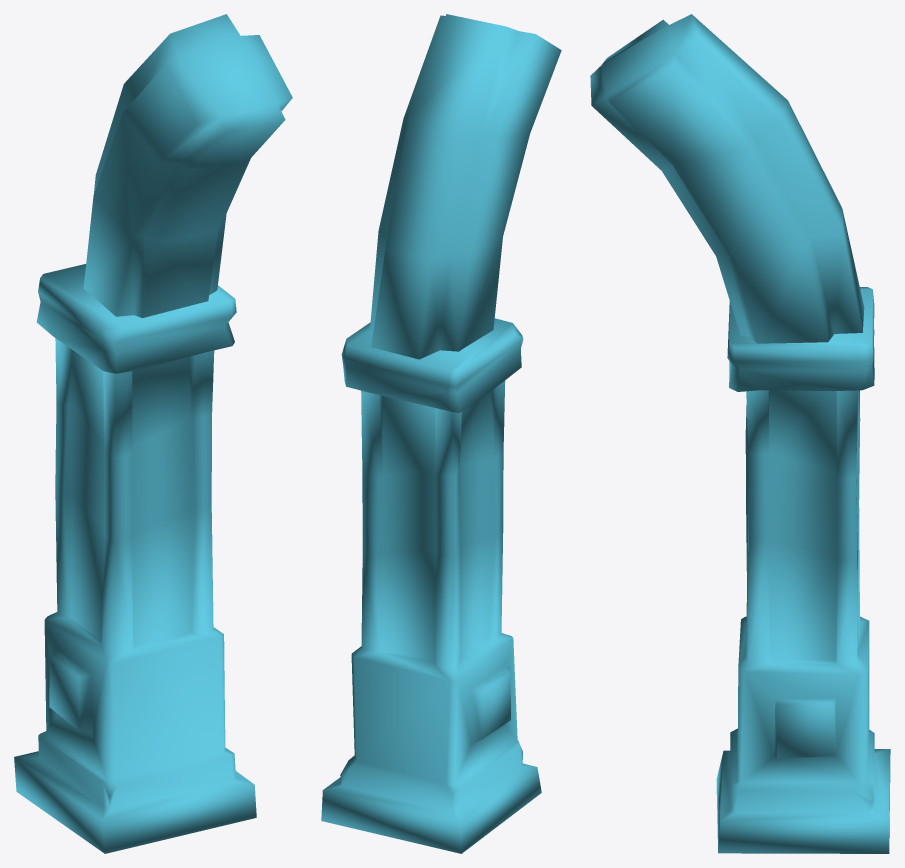
The model's file is column_arc_02.FBX.
3 renders of one model, left to right at view 1: azimuth 30°, elevation 25°; view 2: azimuth 150°, elevation 25°; view 3: azimuth 270°, elevation 25°, orthographic. The views are drawn at different scales.
Parts seen in each view (by area): view 1: column_arc_02; view 2: column_arc_02; view 3: column_arc_02.
Part boxes in pixels (<box>): column_arc_02: <box>14,14,292,853</box>; column_arc_02: <box>321,14,561,853</box>; column_arc_02: <box>590,14,890,853</box>.
Size of the model in its own units: 36.05 by 184 by 63.05.
